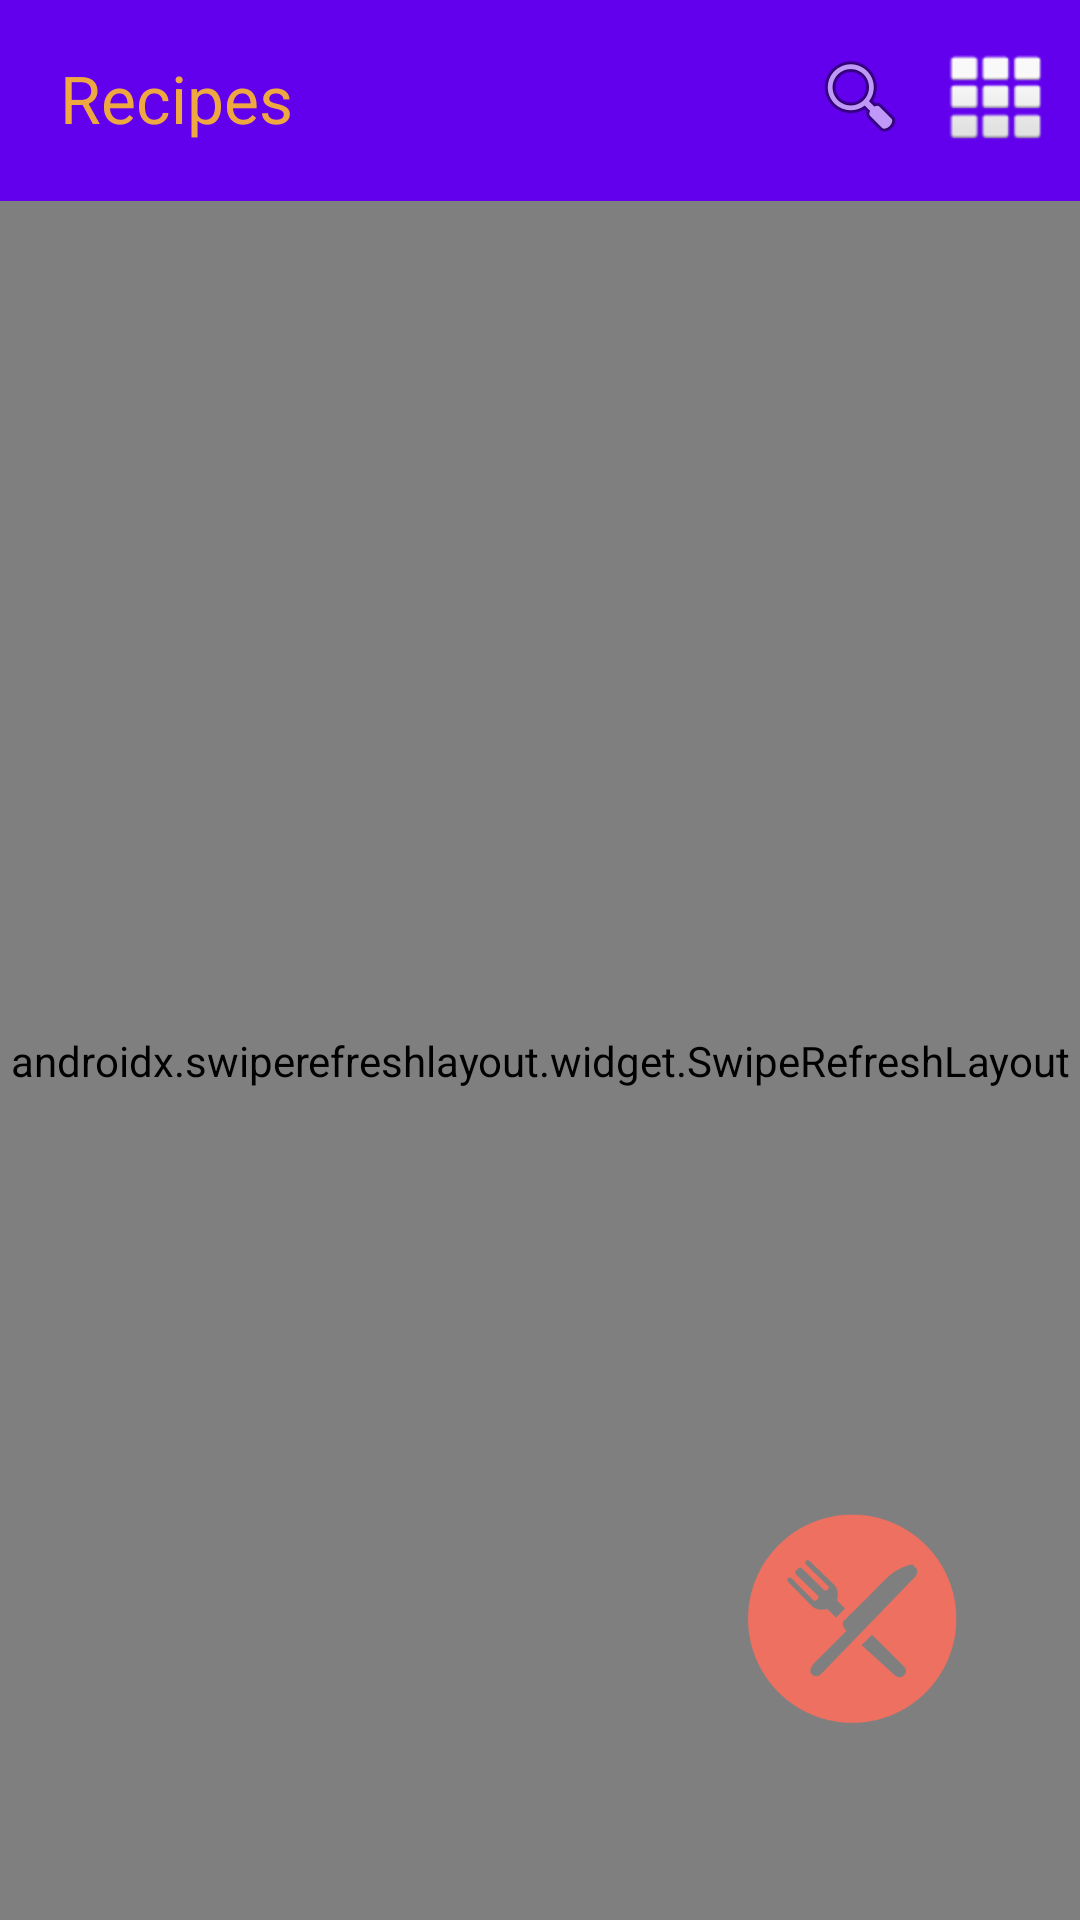

Icons on this 1080*1920 Android screen, each with its box as (x1, y1, x2, y2):
dialer: (949, 55, 1042, 139)
search: (824, 61, 896, 132)
yongcanqu: (748, 1515, 956, 1723)
